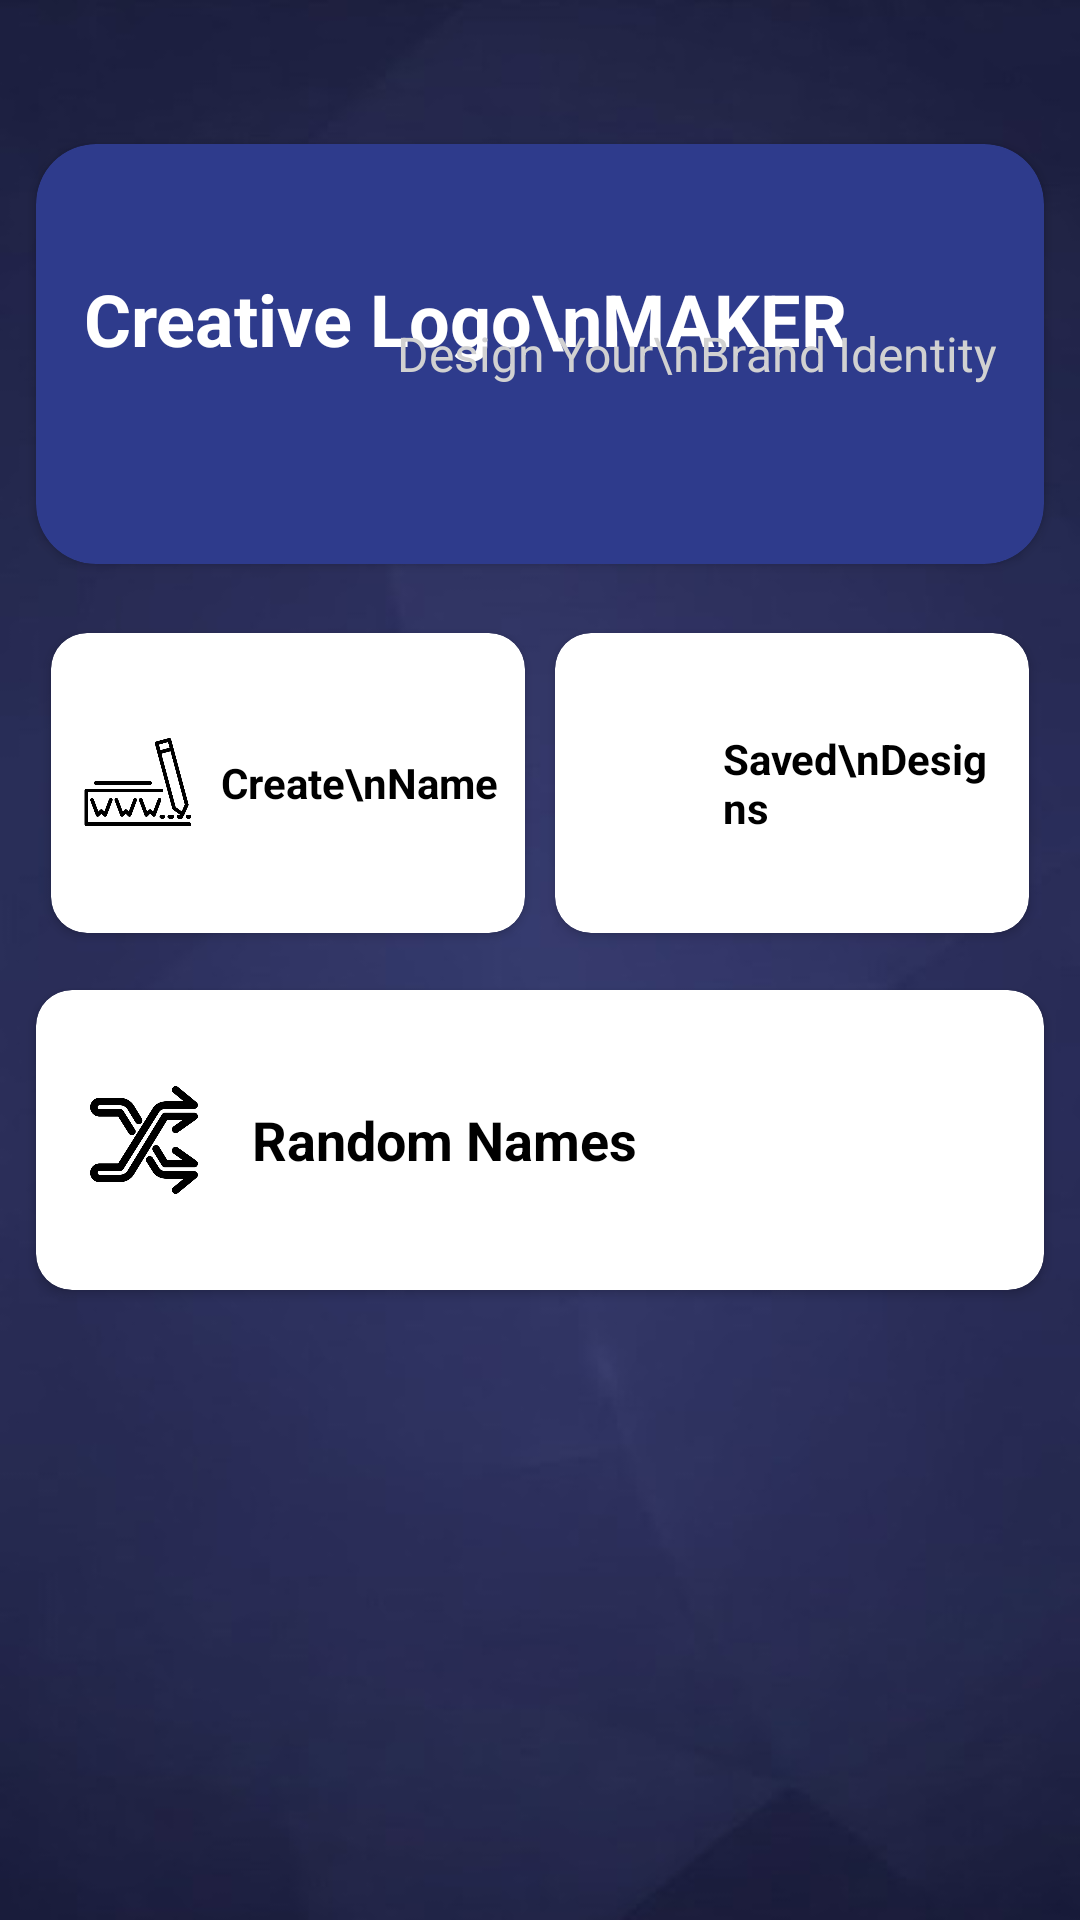

Where icons sit on this 1080×1920 app screen, as (x1, y1, x2, y2):
createname: (84, 738, 191, 826)
